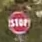stop: (7, 10, 31, 34)
